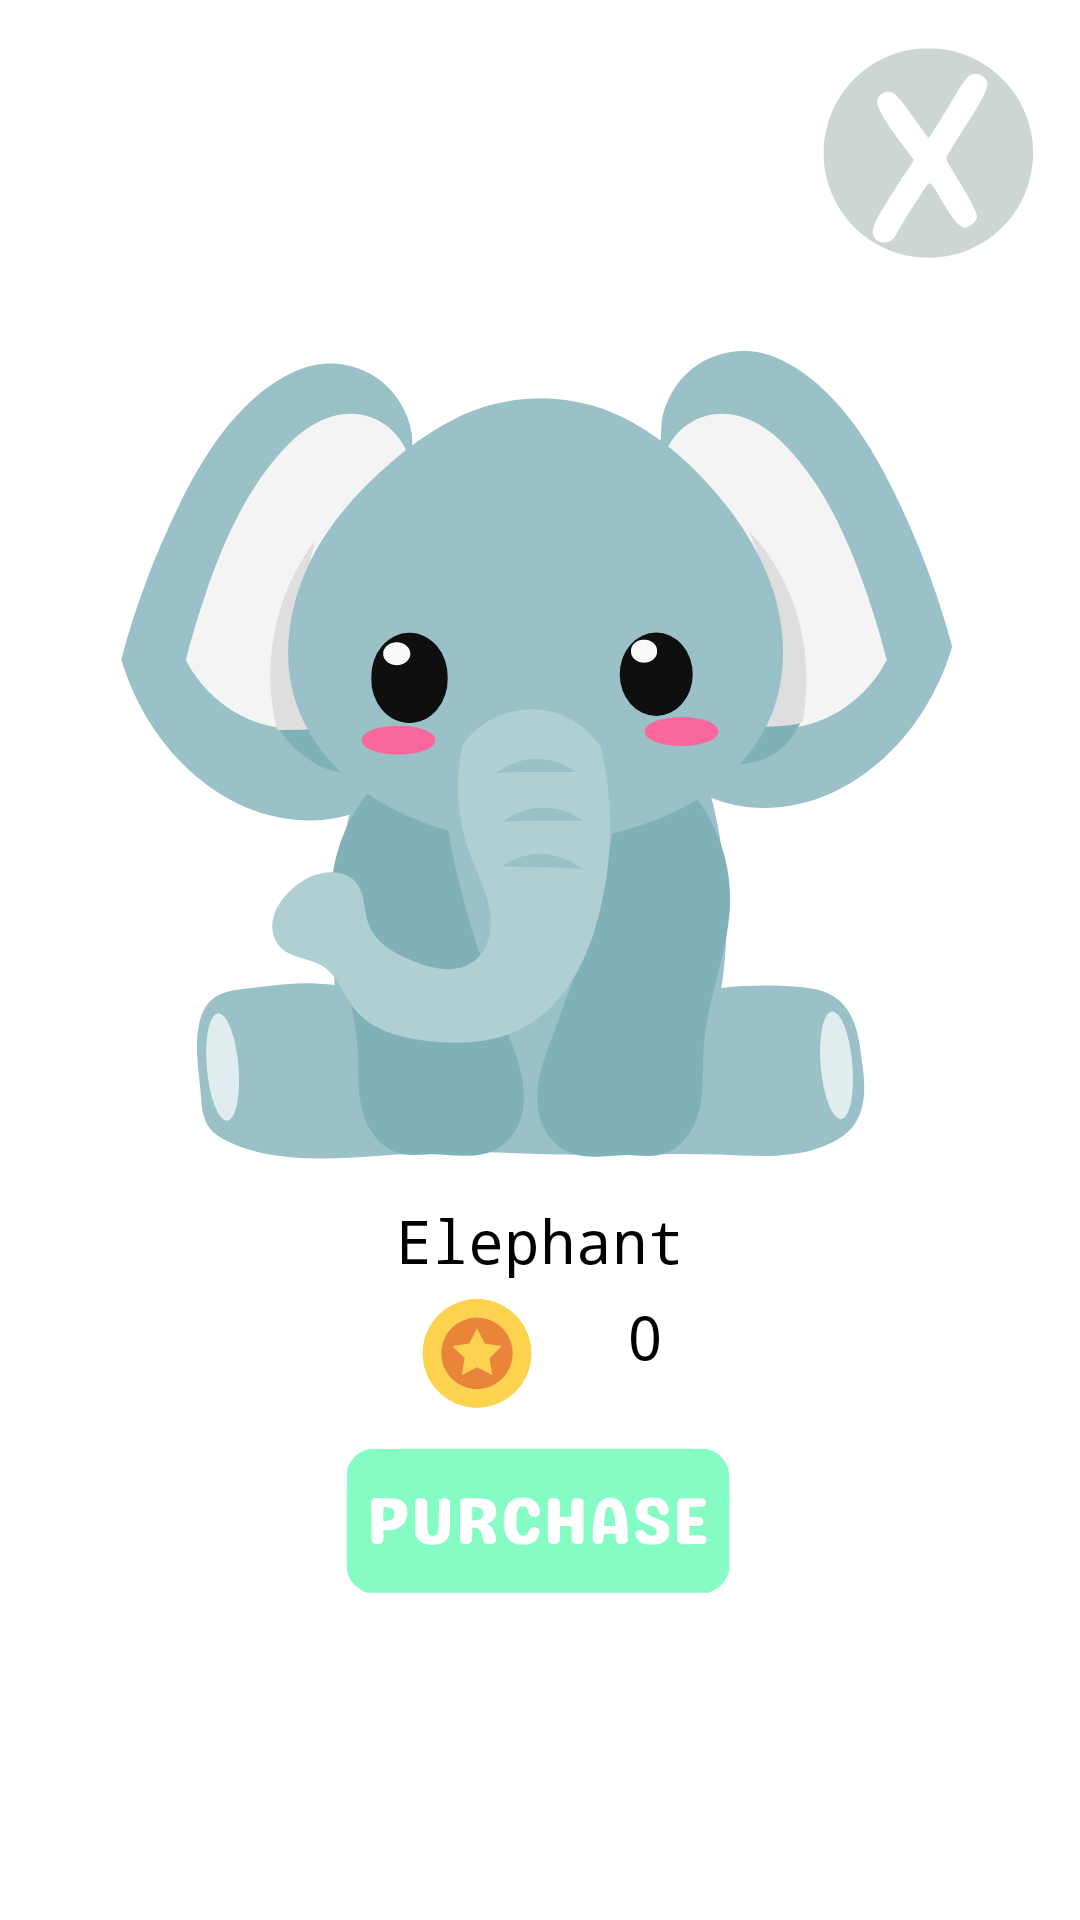

Locate icon controls on the screen. Image size 1080w x 1920h, boxes as (x1, y1, x2, y2).
crossbutton: (824, 49, 1033, 258)
